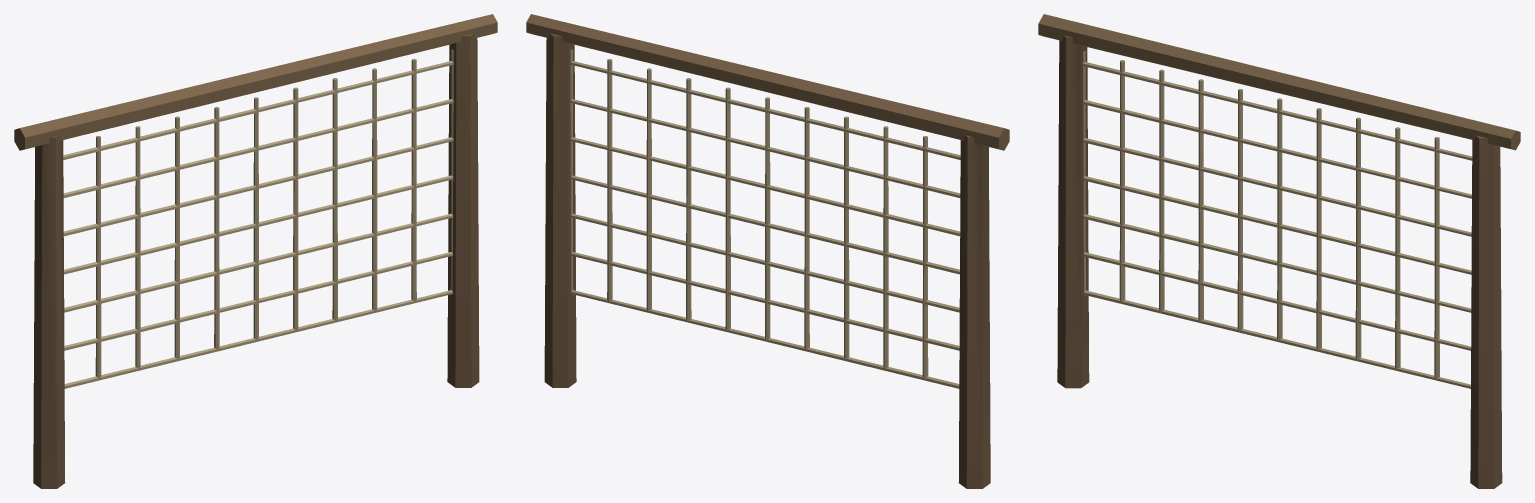
The model's file is nets.glb.
The picture shows the model from 3 angles, left to right: view 1: azimuth 30°, elevation 25°; view 2: azimuth 150°, elevation 25°; view 3: azimuth 330°, elevation 25°; orthographic projection.
Parts seen in each view (by area): view 1: nets; view 2: nets; view 3: nets.
Part boxes in pixels (<box>): nets: <box>14,14,497,488</box>; nets: <box>526,14,1009,488</box>; nets: <box>1038,14,1520,488</box>.
Bounding box in the file's own units: 2.4 × 1.76 × 0.14.
